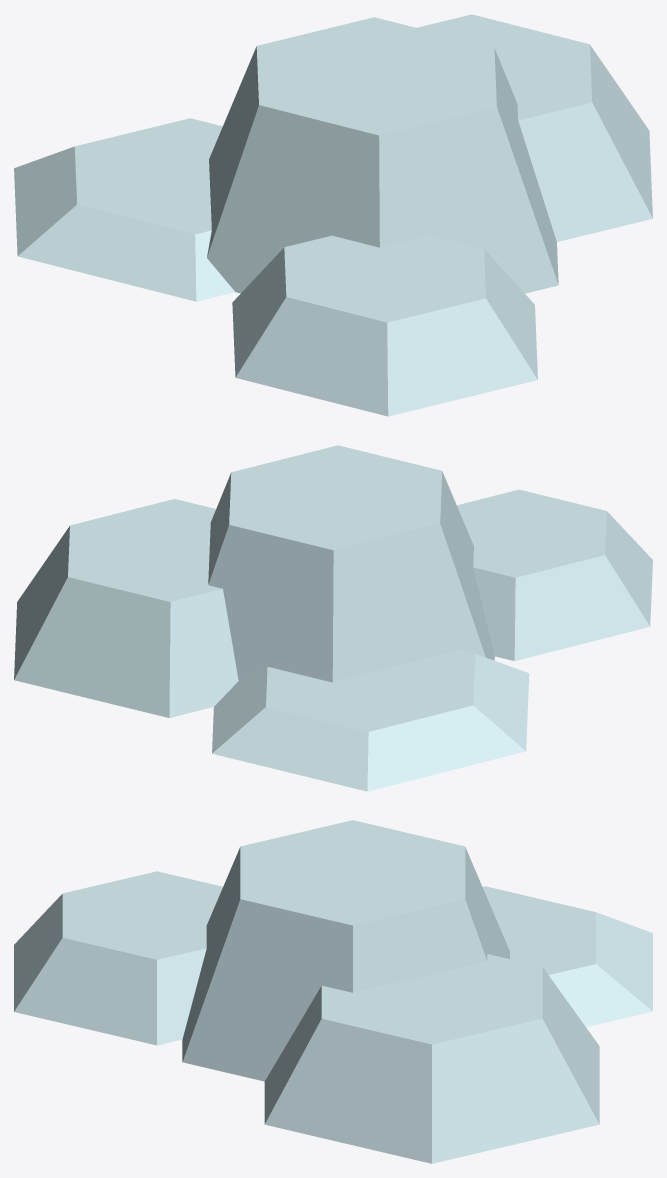
Rendered from detail_rocks.glb.
The picture shows the model from 3 angles, top to bottom: view 1: azimuth 30°, elevation 25°; view 2: azimuth 150°, elevation 25°; view 3: azimuth 270°, elevation 25°; orthographic projection. The views are drawn at different scales.
Parts seen in each view (by area): view 1: detail_rocks; view 2: detail_rocks; view 3: detail_rocks.
Boxes of the visible parts, box(x1,y1,x2,y2) form: detail_rocks: box(14, 14, 652, 416); detail_rocks: box(14, 445, 652, 791); detail_rocks: box(14, 820, 652, 1163).
Bounding box in the file's own units: 0.6 × 0.155 × 0.6.
